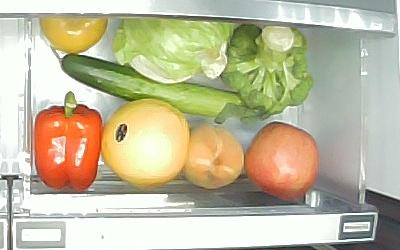apple: (246, 121, 318, 201)
broccoli: (225, 25, 315, 113)
cucumber: (49, 45, 242, 117)
grapefruit: (103, 99, 188, 188)
lettuce: (114, 17, 232, 84)
paprika: (35, 92, 101, 193)
peach: (186, 124, 245, 189)
persimmon: (38, 17, 108, 55)
